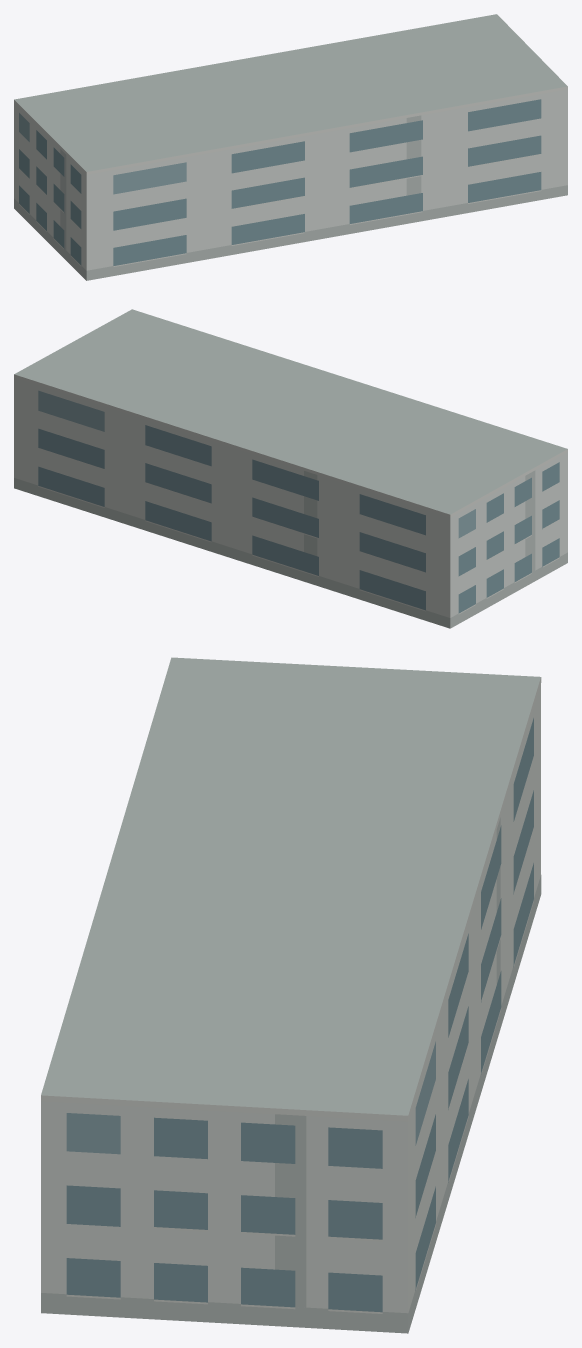
The model's file is survey-upis-32813910.glb.
The picture shows the model from 3 angles, top to bottom: view 1: azimuth 30°, elevation 25°; view 2: azimuth 150°, elevation 25°; view 3: azimuth 270°, elevation 25°; orthographic projection. The views are drawn at different scales.
Parts seen in each view (by area): view 1: survey-upis-32813910.tmp; view 2: survey-upis-32813910.tmp; view 3: survey-upis-32813910.tmp.
Boxes of the visible parts, <box> form: survey-upis-32813910.tmp: <box>14,14,567,280</box>; survey-upis-32813910.tmp: <box>14,309,567,628</box>; survey-upis-32813910.tmp: <box>41,657,541,1333</box>.
Size of the model in its own units: 41.32 by 9.15 by 19.07.
